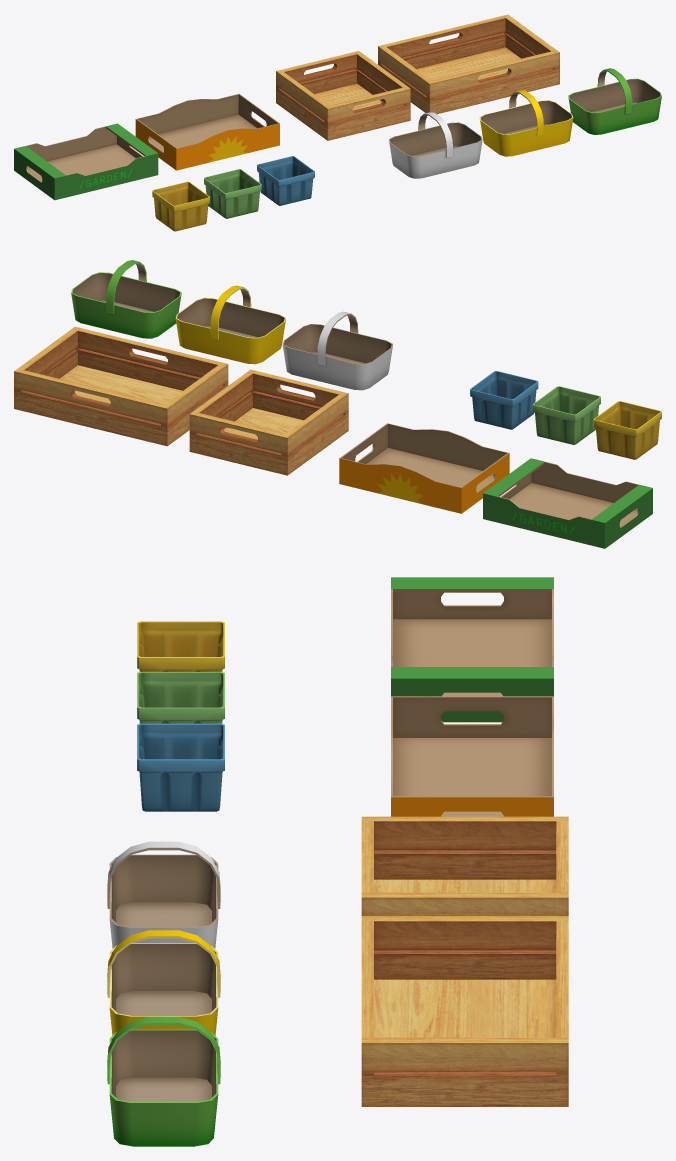
Rendered from Boxes, baskets and containers for storage_.fbx.
The picture shows the model from 3 angles, top to bottom: view 1: azimuth 30°, elevation 25°; view 2: azimuth 150°, elevation 25°; view 3: azimuth 270°, elevation 25°; orthographic projection. The views are drawn at different scales.
Parts seen in each view (by area): view 1: WoodCrate_Large, WoodCrate_Small, Cardboard_Box_02, Cardboard_Box_01, Cardboard_Basket, Cardboard_Basket_02, Cardboard_Basket_03, Berrry_Box_03, Berrry_Box, Berrry_Box_02; view 2: WoodCrate_Large, WoodCrate_Small, Cardboard_Box_02, Cardboard_Box_01, Cardboard_Basket, Cardboard_Basket_03, Cardboard_Basket_02, Berrry_Box_03, Berrry_Box, Berrry_Box_02; view 3: WoodCrate_Large, WoodCrate_Small, Cardboard_Box_01, Cardboard_Box_02, Cardboard_Basket_03, Cardboard_Basket, Cardboard_Basket_02, Berrry_Box, Berrry_Box_02, Berrry_Box_03.
Part boxes in pixels (bbox=[...]): WoodCrate_Large: bbox=[378, 14, 559, 114]; WoodCrate_Small: bbox=[276, 51, 410, 140]; Cardboard_Box_02: bbox=[135, 93, 279, 170]; Cardboard_Box_01: bbox=[14, 123, 158, 200]; Cardboard_Basket: bbox=[388, 112, 482, 178]; Cardboard_Basket_02: bbox=[479, 90, 573, 156]; Cardboard_Basket_03: bbox=[568, 68, 661, 134]; Berrry_Box_03: bbox=[152, 181, 209, 231]; Berrry_Box: bbox=[257, 156, 314, 205]; Berrry_Box_02: bbox=[204, 169, 261, 218]; WoodCrate_Large: bbox=[14, 326, 228, 446]; WoodCrate_Small: bbox=[189, 369, 348, 475]; Cardboard_Box_02: bbox=[339, 423, 509, 513]; Cardboard_Box_01: bbox=[483, 458, 652, 548]; Cardboard_Basket: bbox=[282, 311, 392, 390]; Cardboard_Basket_03: bbox=[71, 260, 181, 338]; Cardboard_Basket_02: bbox=[175, 285, 285, 364]; Berrry_Box_03: bbox=[593, 401, 661, 459]; Berrry_Box: bbox=[470, 371, 538, 429]; Berrry_Box_02: bbox=[532, 386, 600, 444]; WoodCrate_Large: bbox=[361, 916, 568, 1106]; WoodCrate_Small: bbox=[361, 816, 568, 915]; Cardboard_Box_01: bbox=[391, 577, 553, 722]; Cardboard_Box_02: bbox=[391, 696, 553, 816]; Cardboard_Basket_03: bbox=[107, 1016, 220, 1146]; Cardboard_Basket: bbox=[107, 841, 220, 948]; Cardboard_Basket_02: bbox=[107, 930, 220, 1035]; Berrry_Box: bbox=[137, 723, 224, 811]; Berrry_Box_02: bbox=[137, 672, 224, 723]; Berrry_Box_03: bbox=[137, 621, 224, 671].
Bounding box in the file's own units: 733 × 60.11 × 271.
5 materials, 5 textured.
